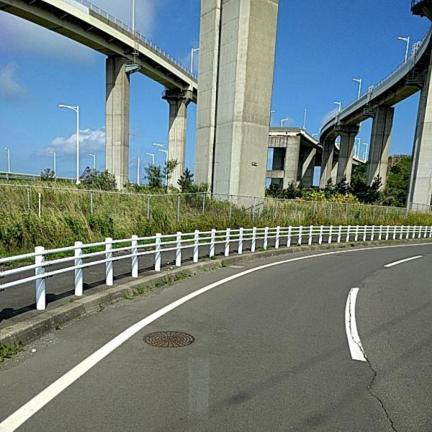Road: (0, 245, 431, 431)
